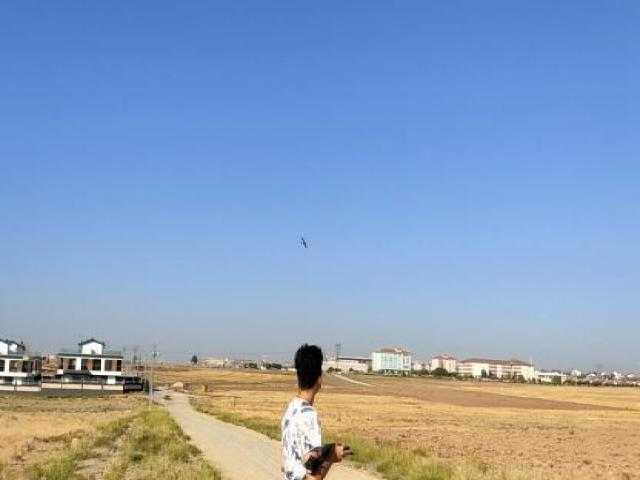uav: (296, 235, 309, 251)
